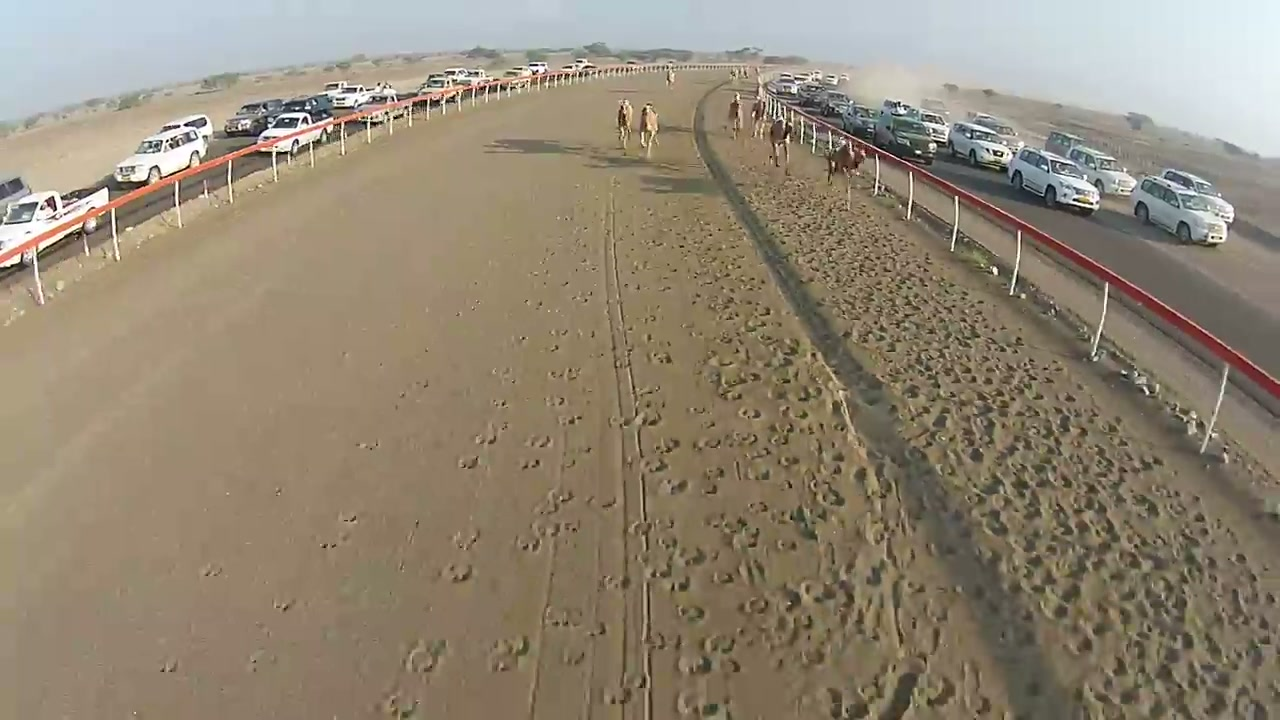animal_foot_print: (716, 145, 1279, 715)
